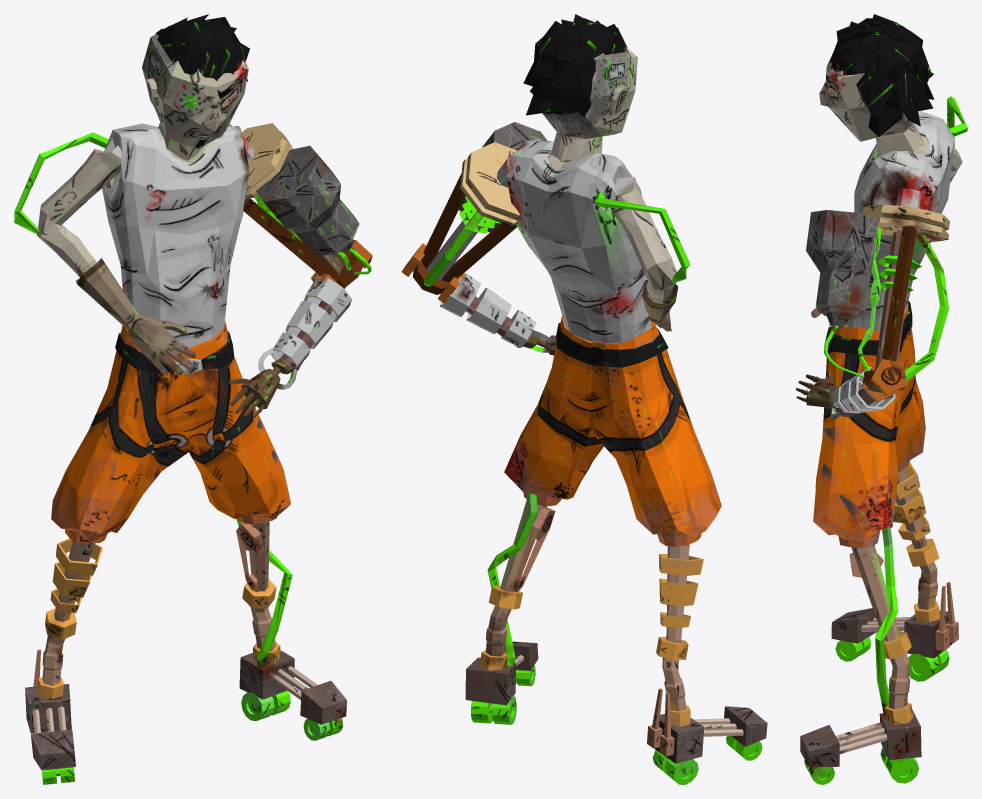
The model's file is CyborgFINALAnimation_000039.obj.
The picture shows the model from 3 angles, left to right: view 1: azimuth 30°, elevation 25°; view 2: azimuth 150°, elevation 25°; view 3: azimuth 270°, elevation 25°; orthographic projection.
Visible parts, largest first — view 1: CyborgMesh_Cube.002; view 2: CyborgMesh_Cube.002; view 3: CyborgMesh_Cube.002.
Part boxes in pixels (left/top/right/bottom): CyborgMesh_Cube.002: left=14, top=14, right=372, bottom=784; CyborgMesh_Cube.002: left=401, top=14, right=767, bottom=784; CyborgMesh_Cube.002: left=796, top=14, right=967, bottom=784.
Bounding box in the file's own units: 4.85 × 9.6 × 2.09.
